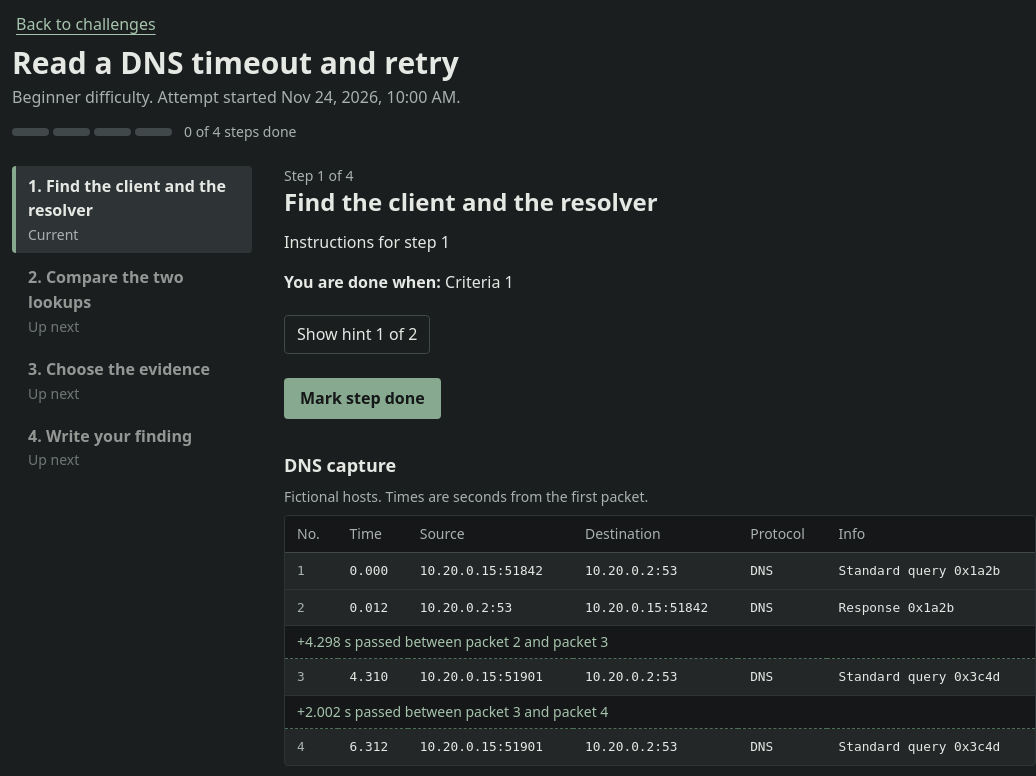
Scenario: Workspace: steps › reveals hints one at a time, only on request
This screenshot has width=1036, height=776.
Expected: the heading "Find the client and the resolver" is shown, x1=284 y1=185 x2=658 y2=218
Expected: the text "First hint text" is not shown
Click the button "Show hint 1 of 2".
click(357, 335)  # box x1=284 y1=315 x2=430 y2=354
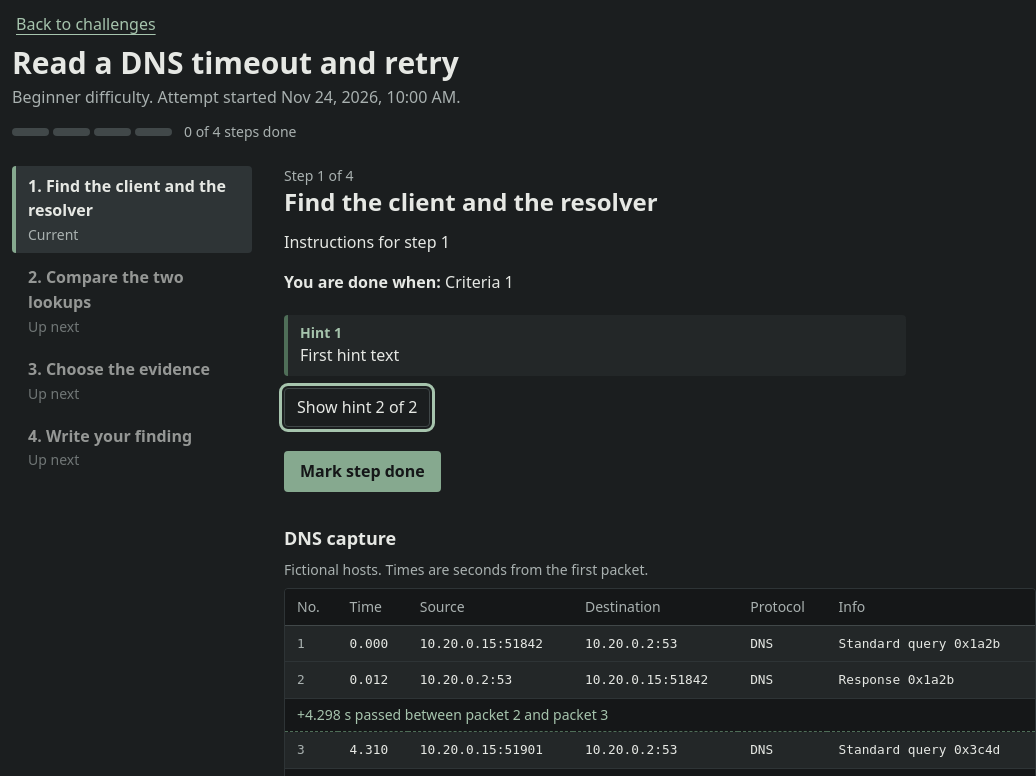
Expected: the text "Second hint text" is not shown
Result: the text "First hint text" is shown at x1=300 y1=344 x2=399 y2=366
Click the button "Show hint 2 of 2".
click(357, 407)  # box x1=284 y1=388 x2=430 y2=427
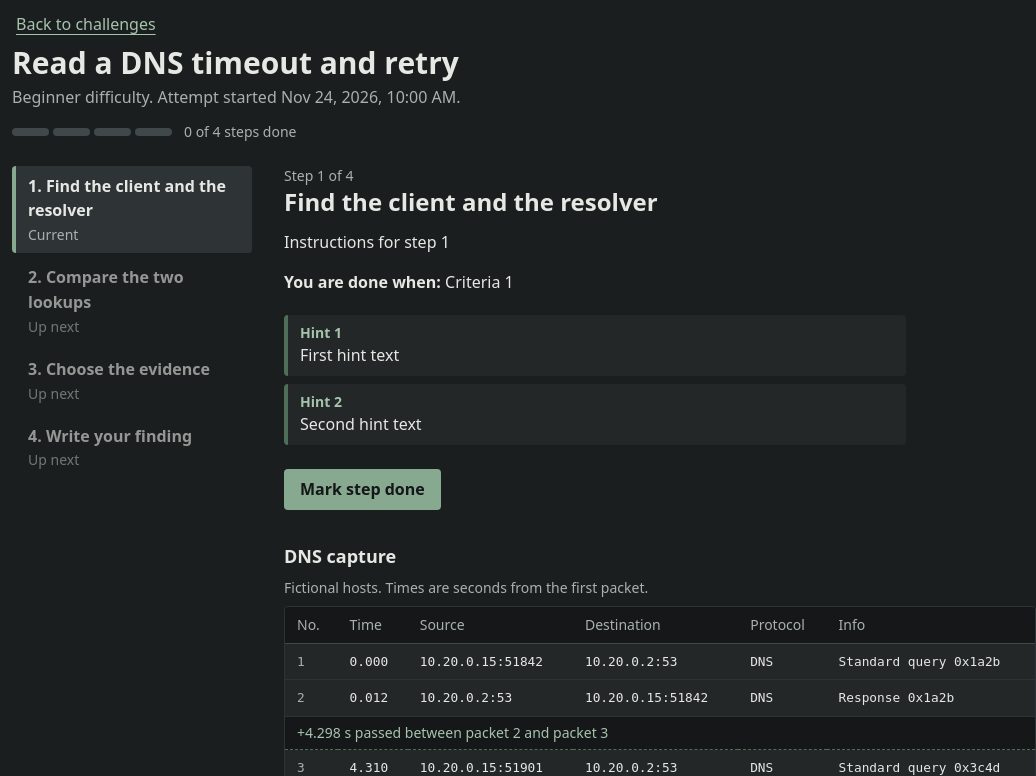
Result: the text "Second hint text" is shown at x1=300 y1=413 x2=422 y2=435
Result: the button "Show hint" is gone
